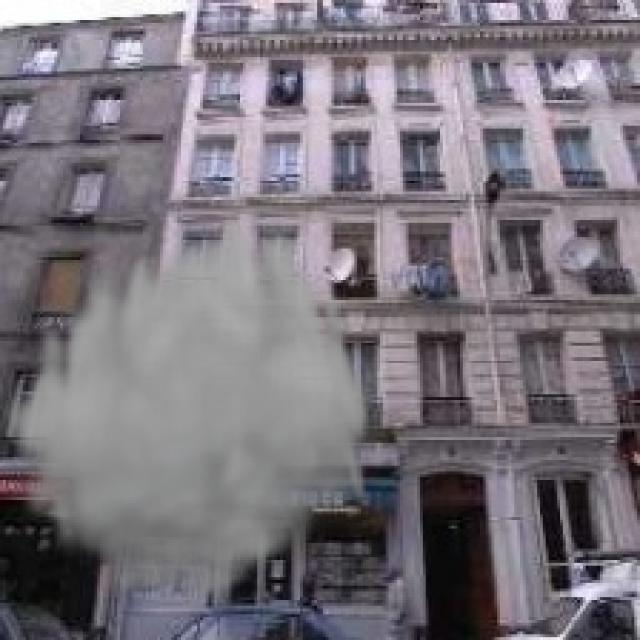smoke: (0, 191, 375, 609)
